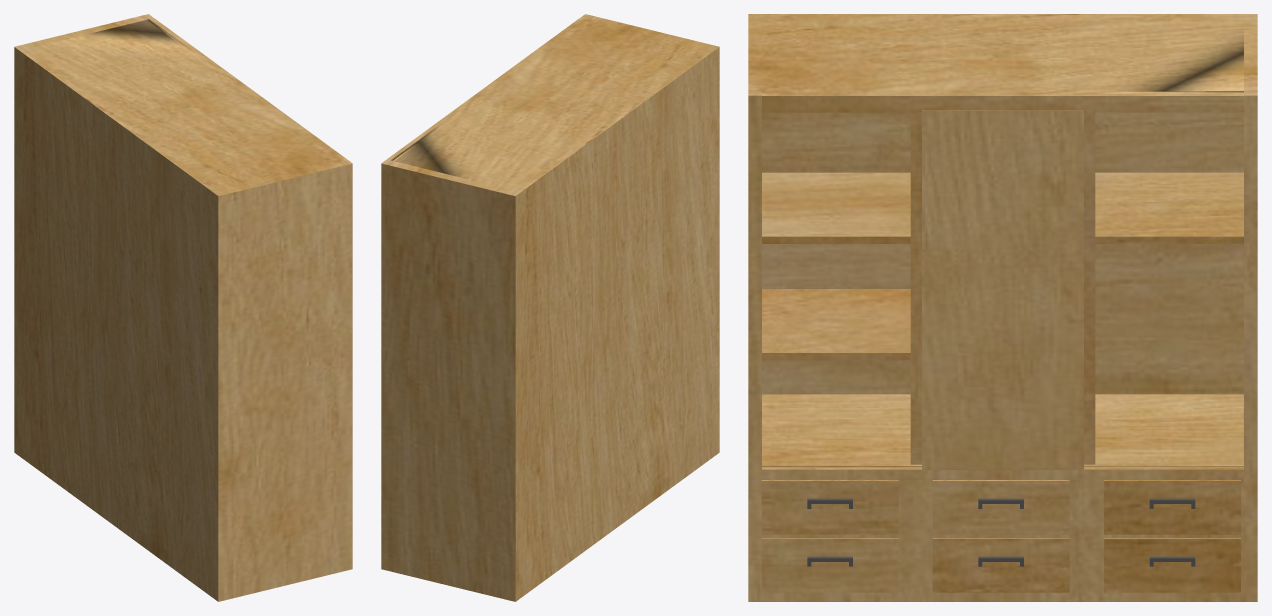
File: Armario_Familia.fbx
3 renders of one model, left to right at view 1: azimuth 30°, elevation 25°; view 2: azimuth 150°, elevation 25°; view 3: azimuth 270°, elevation 25°, orthographic. The views are drawn at different scales.
Visible parts, largest first — view 1: Armario; view 2: Armario; view 3: Armario.
Part boxes in pixels (x1=…): Armario: x1=14, y1=14, x2=352, y2=601; Armario: x1=381, y1=14, x2=719, y2=601; Armario: x1=748, y1=14, x2=1257, y2=601.
Bounding box in the file's own units: 105 × 294 × 268.
